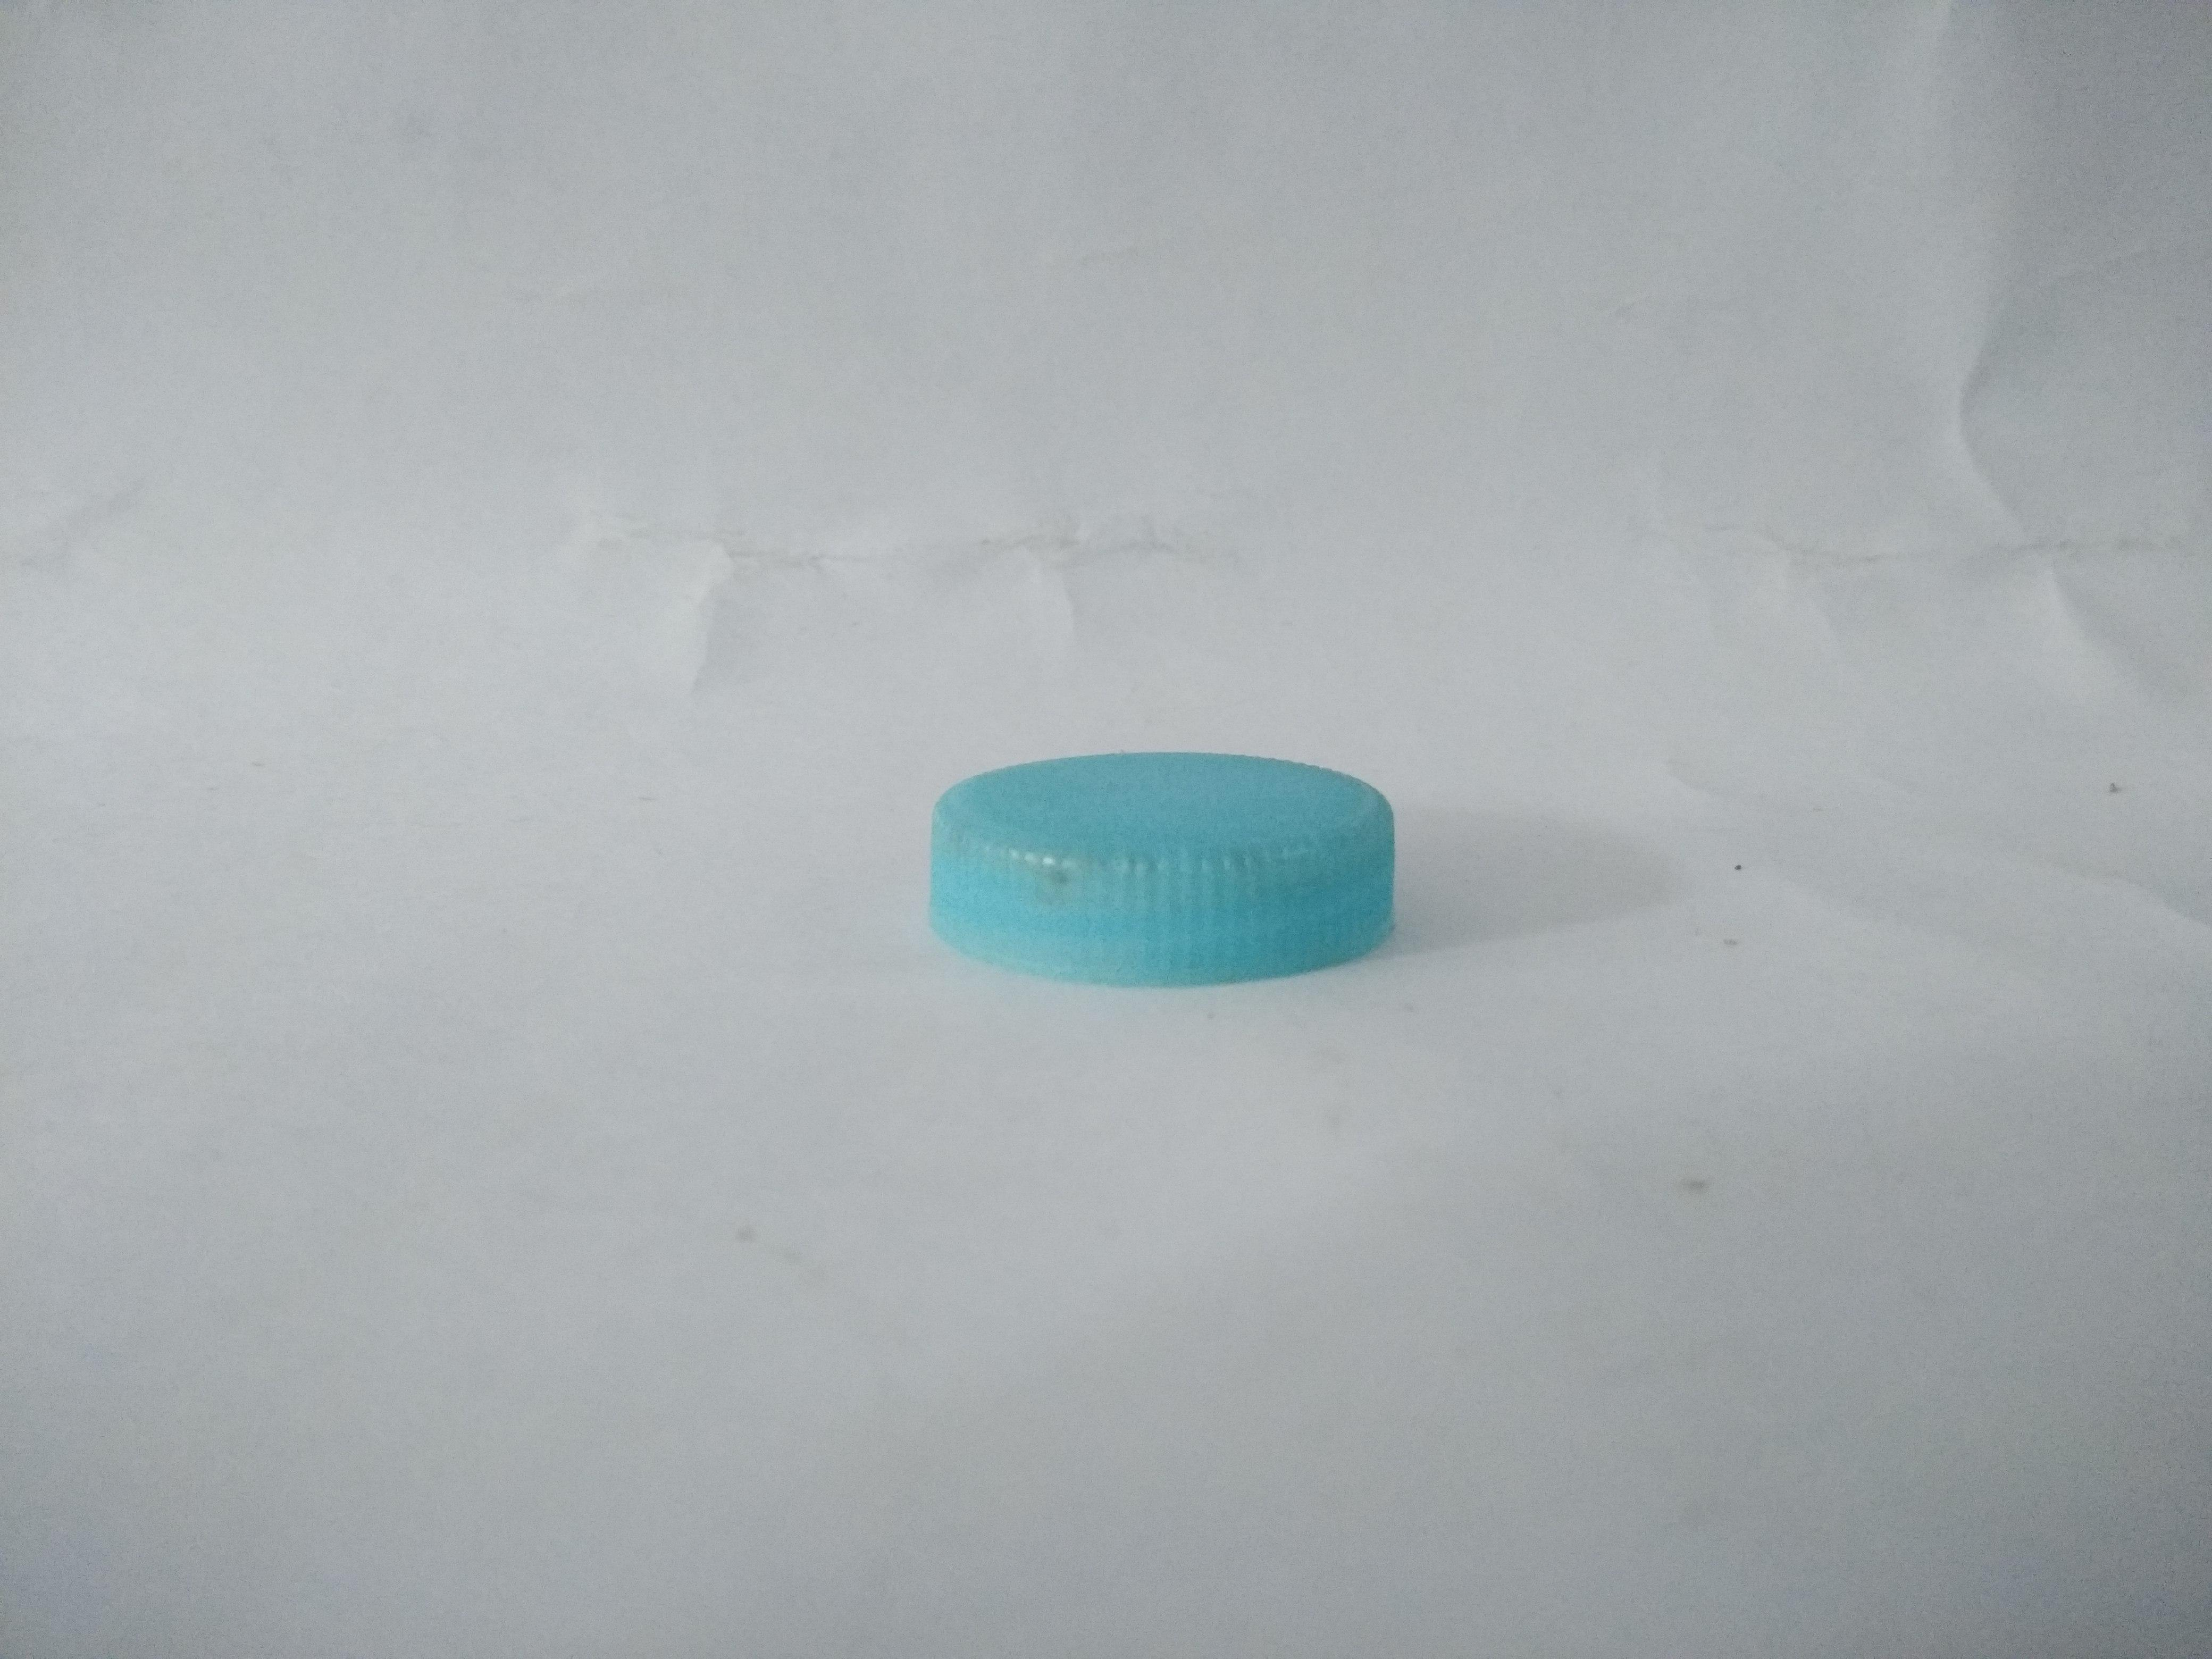HDPE: (745, 554, 1660, 1272)
